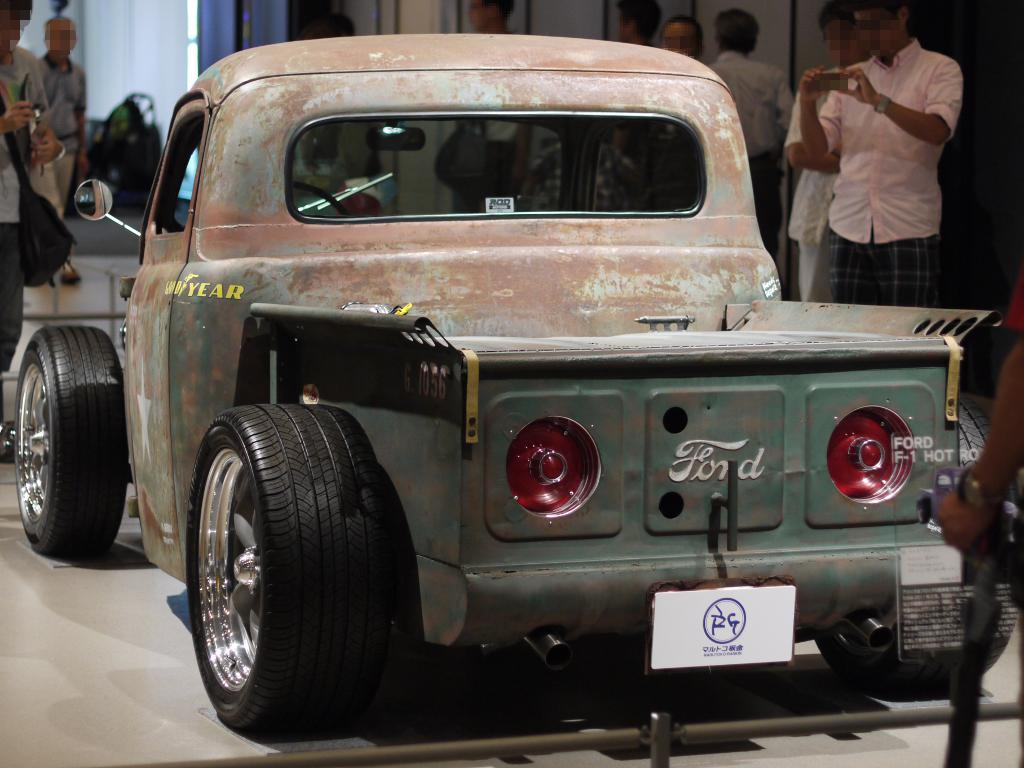Car: (14, 31, 1022, 739)
